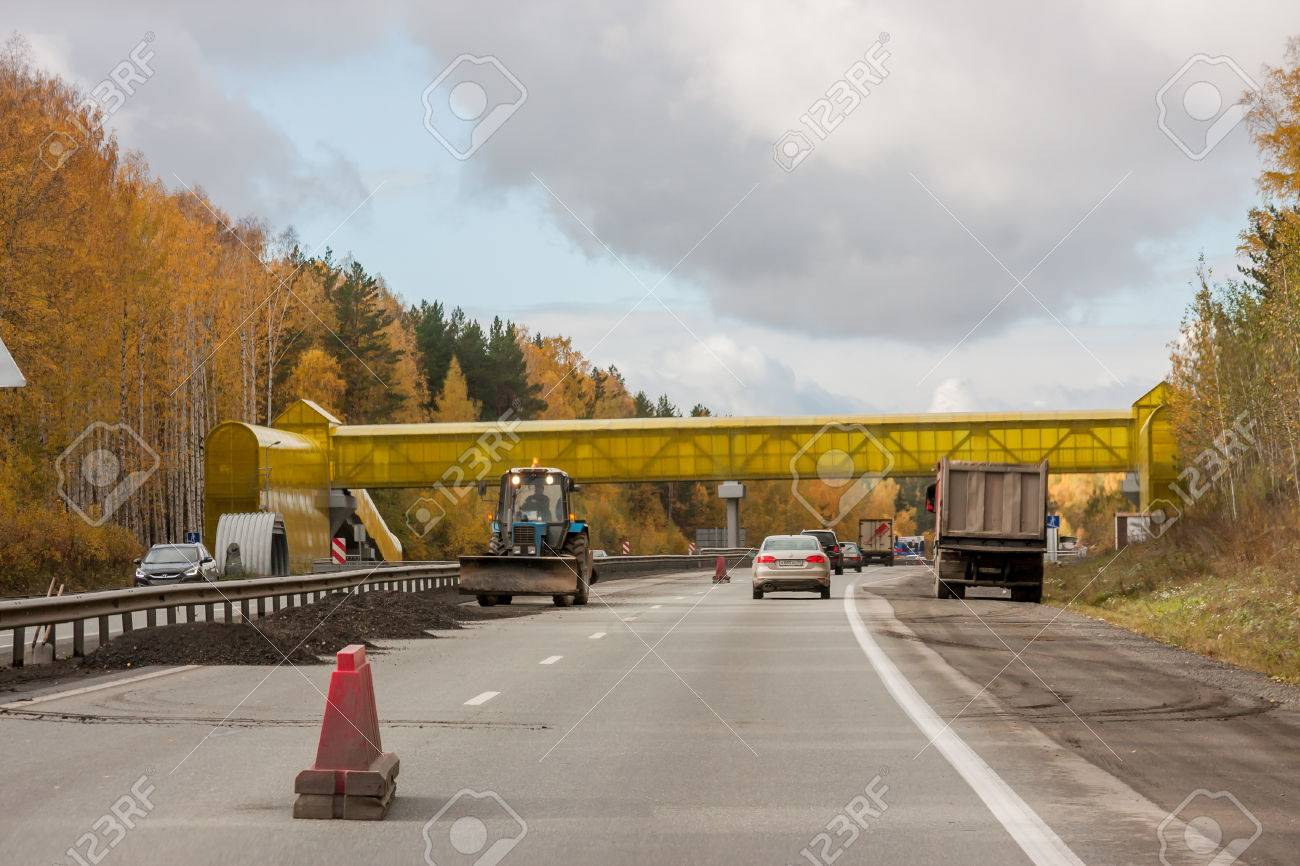bridge: (196, 398, 1196, 491)
